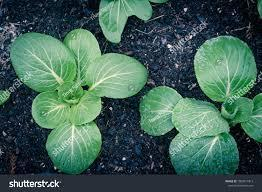Healthy-Pechay: (7, 28, 146, 172), (138, 35, 262, 174)
